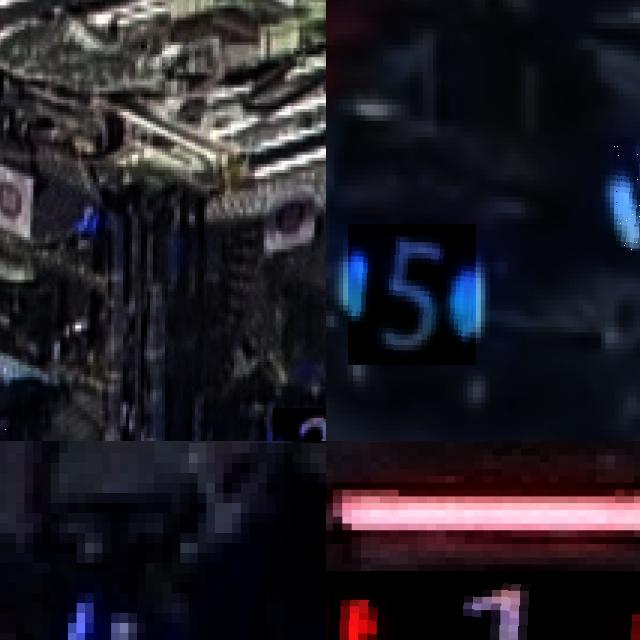B1: (50, 583, 180, 640)
B2: (272, 407, 326, 441)
B5: (348, 224, 476, 365), (614, 137, 640, 251)
R1: (326, 571, 640, 640)
